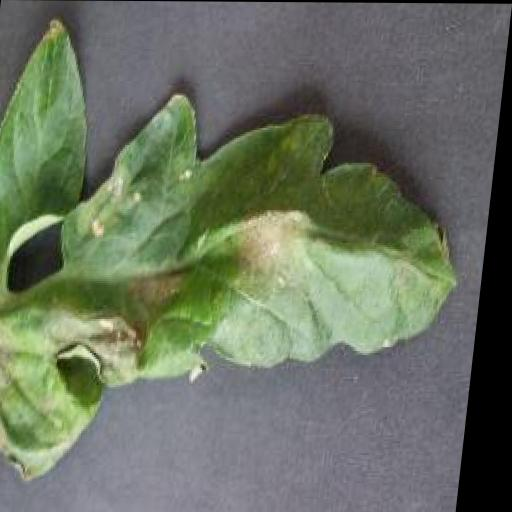Late Blight: (0, 19, 489, 488)
